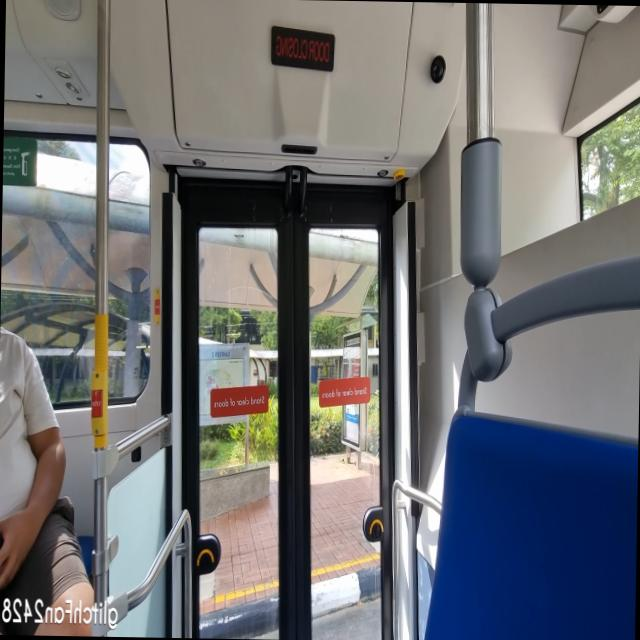bus-door: (181, 162, 395, 639)
